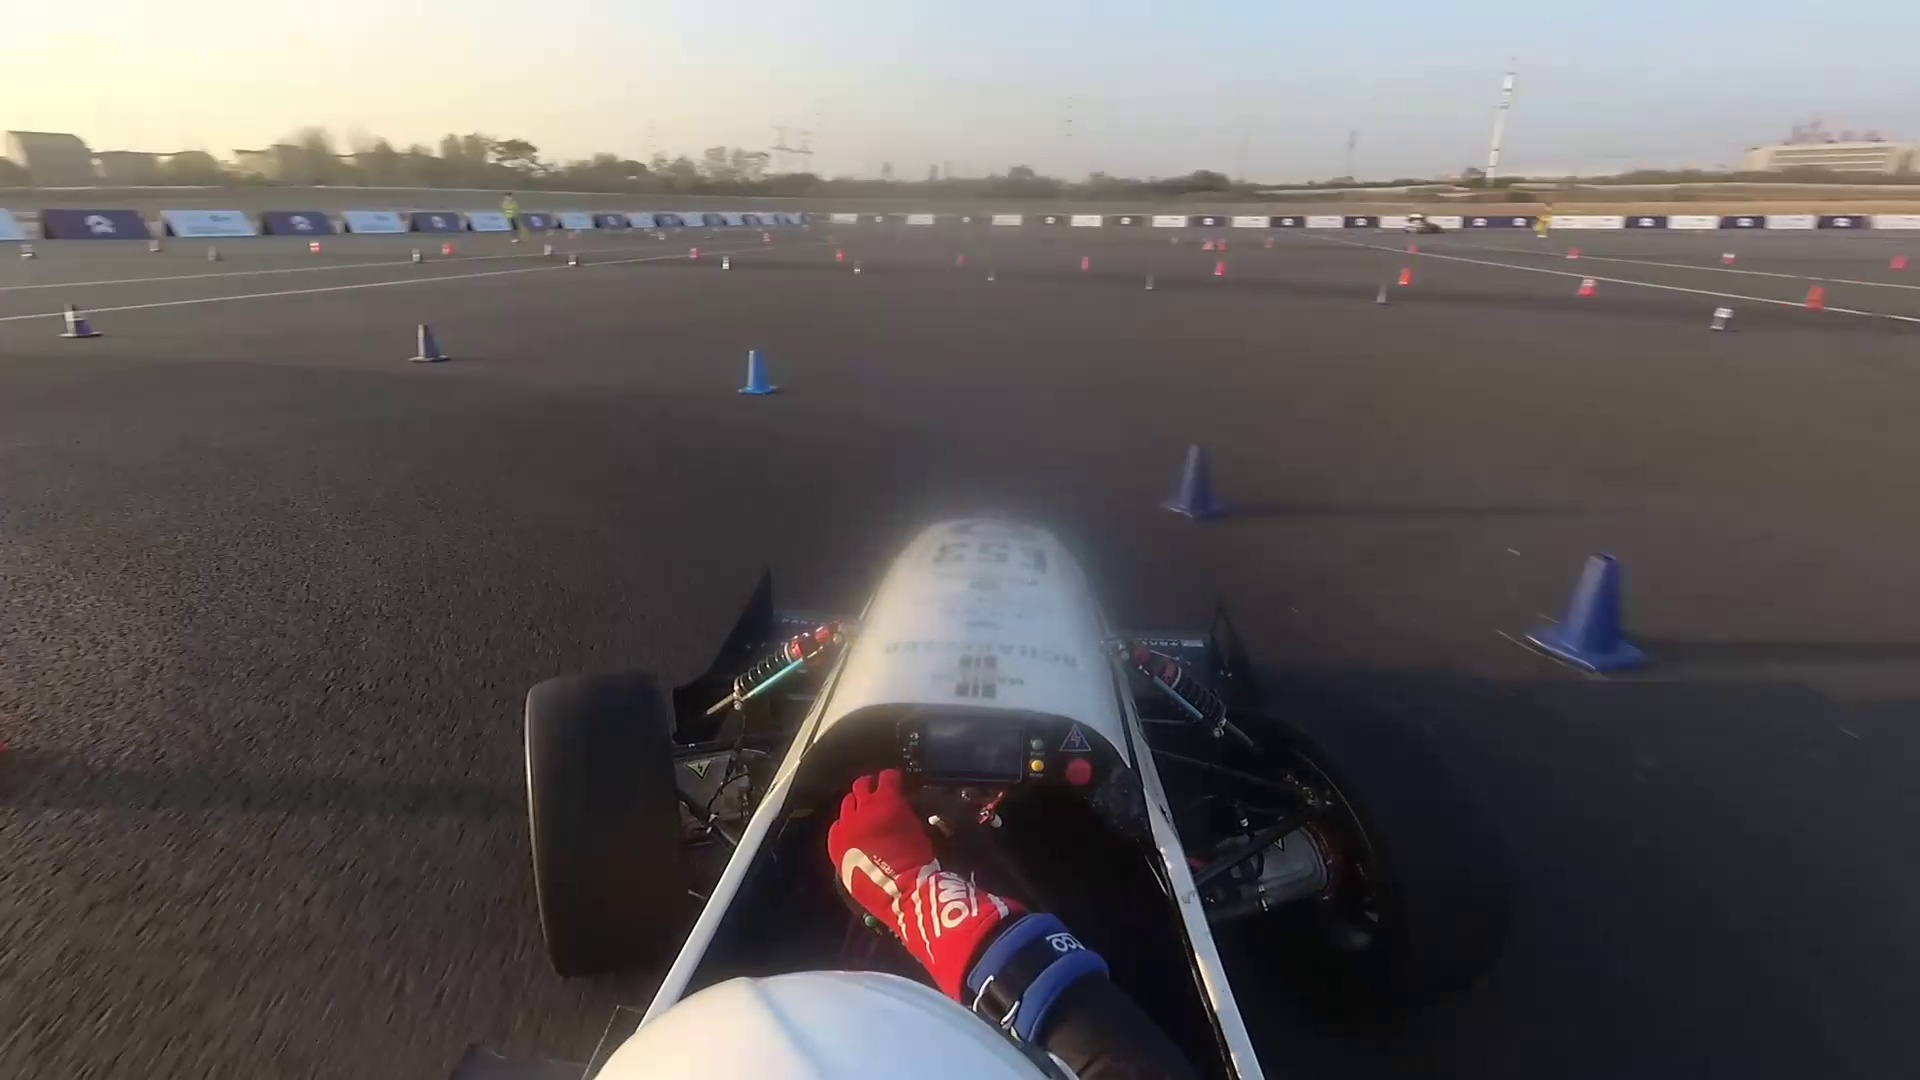blue_cone: (1528, 547, 1638, 673), (1155, 436, 1225, 535), (736, 335, 775, 401), (410, 326, 454, 369), (57, 303, 88, 345), (1712, 306, 1735, 328), (17, 241, 38, 262), (206, 243, 223, 262), (1375, 284, 1390, 305), (1143, 273, 1159, 291), (410, 248, 425, 265), (723, 249, 733, 270), (568, 252, 580, 266), (152, 237, 161, 251)
red_cone: (1805, 280, 1822, 315), (1399, 266, 1414, 287), (1580, 277, 1596, 295), (309, 239, 322, 256), (1080, 253, 1091, 272), (833, 247, 844, 264), (686, 247, 699, 260), (1212, 260, 1224, 274), (443, 240, 454, 256)
